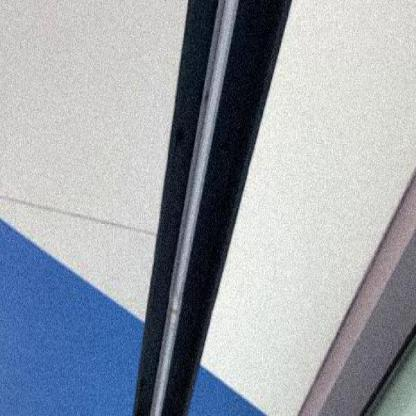light_off: (132, 0, 263, 415)
